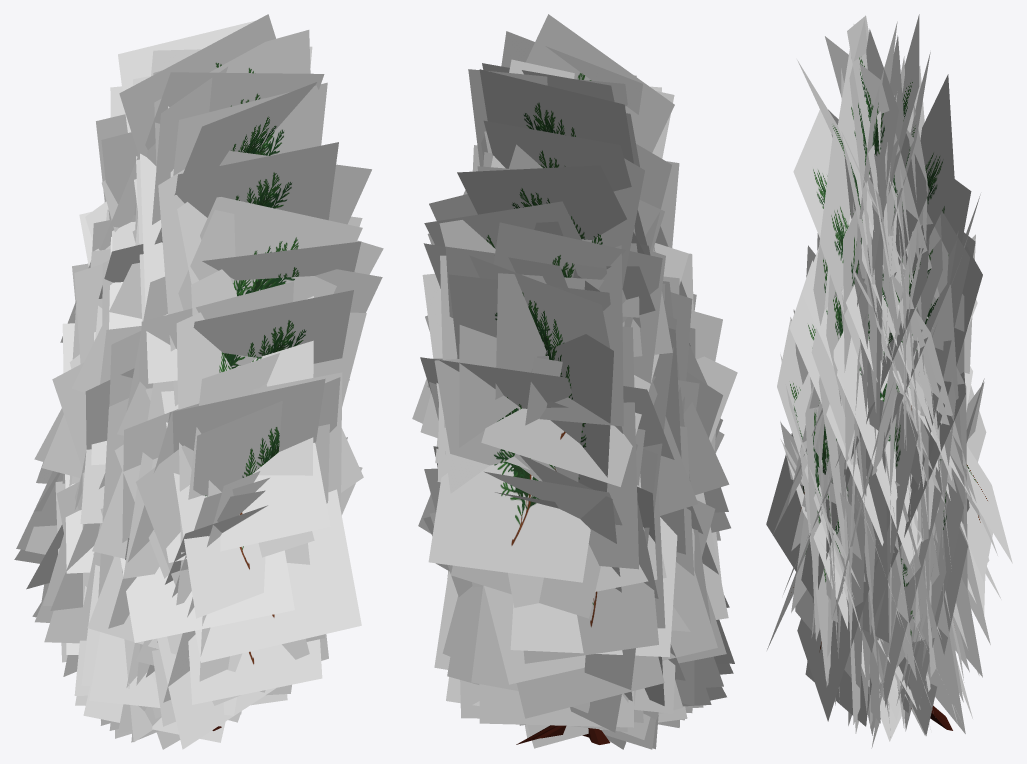
File: thuja02.fbx
The picture shows the model from 3 angles, left to right: view 1: azimuth 30°, elevation 25°; view 2: azimuth 150°, elevation 25°; view 3: azimuth 270°, elevation 25°; orthographic projection. The views are drawn at different scales.
Visible parts, largest first — view 1: thuja02; view 2: thuja02; view 3: thuja02.
Boxes of the visible parts, x1,y1,x2,y2 form: thuja02: [14, 14, 383, 749]; thuja02: [412, 14, 737, 749]; thuja02: [766, 14, 1012, 748].
Bounding box in the file's own units: 349 × 765 × 236.
